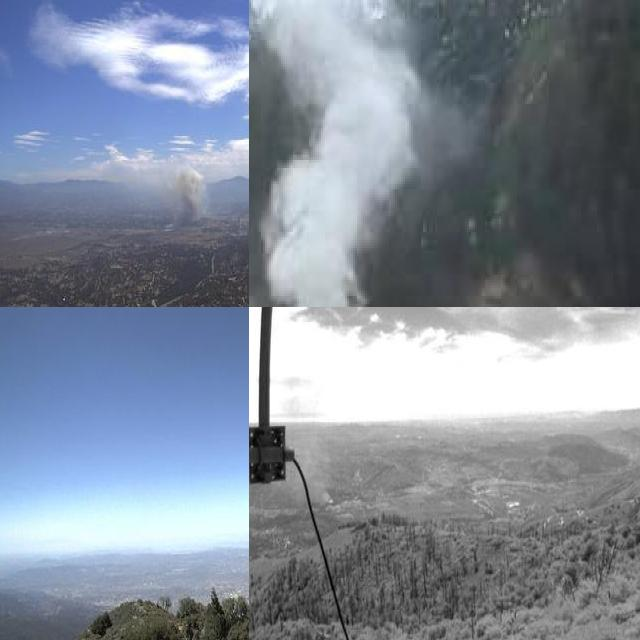smoke: (257, 0, 485, 307), (282, 383, 336, 510), (166, 158, 213, 238)
